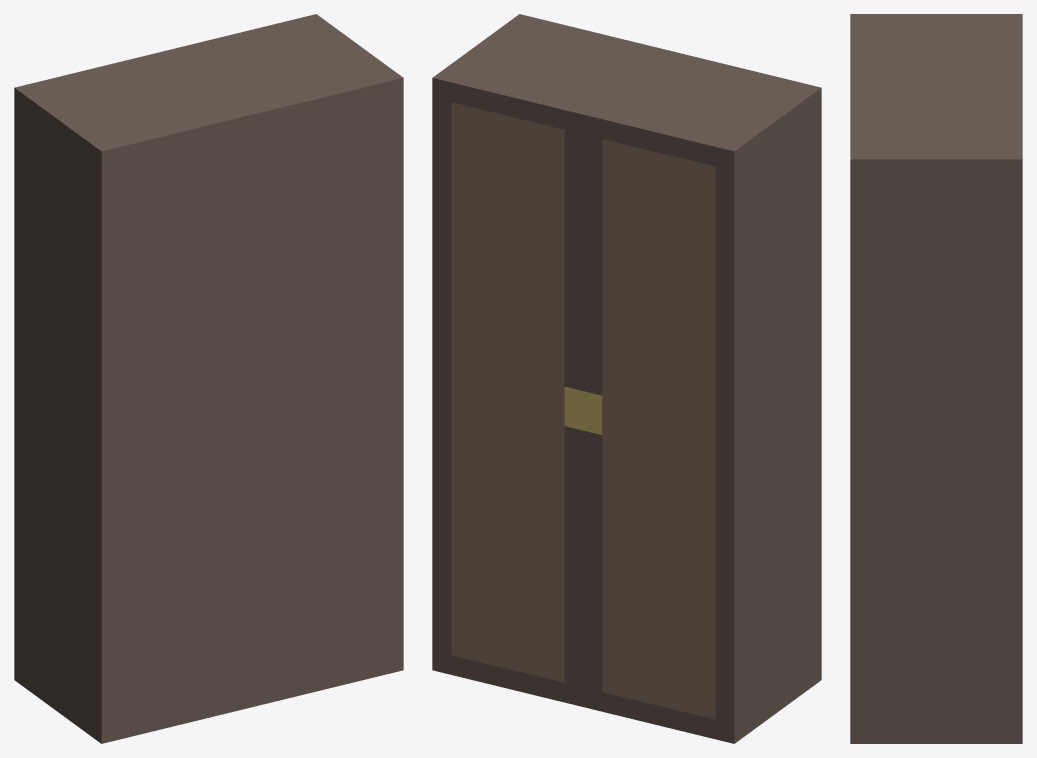
The model's file is armoire.glb.
3 renders of one model, left to right at view 1: azimuth 30°, elevation 25°; view 2: azimuth 150°, elevation 25°; view 3: azimuth 270°, elevation 25°, orthographic.
Parts seen in each view (by area): view 1: main; view 2: main; view 3: main.
Boxes of the visible parts, x1,y1,x2,y2 form: main: [14, 14, 403, 743]; main: [432, 14, 821, 743]; main: [850, 14, 1022, 743].
Bounding box in the file's own units: 1 × 1.88 × 0.5.
